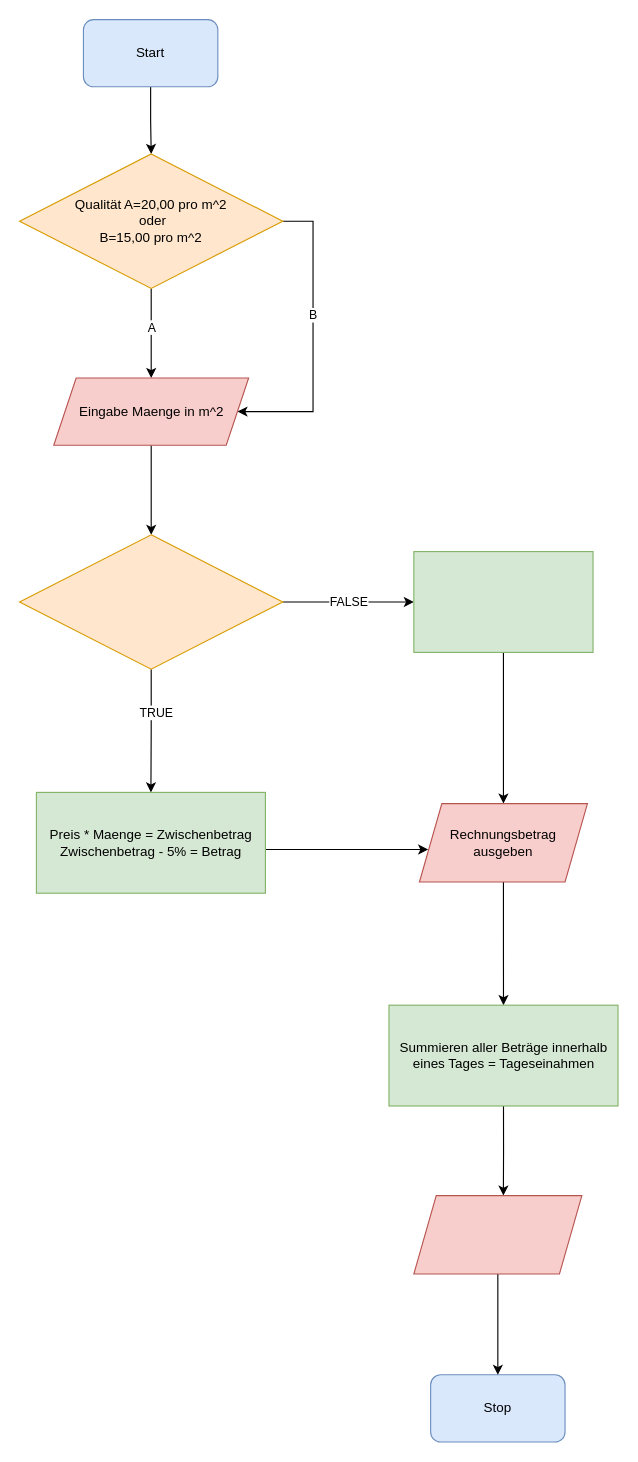
Image size: 638x1462. Some labels were removed from this diagram. The shapes that lost their labels are listed below. From the top down, each one's centre as x and y in pixels, then its label:
At point (150, 601): "Maenge >= 50 m^2?".
At point (503, 601): "Preis * Maenge = Betrag".
At point (497, 1234): "Tageseinnahmen ausgeben".
